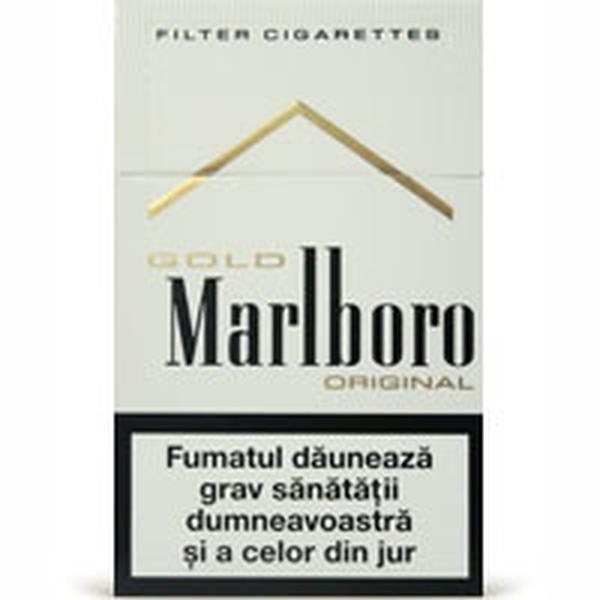marlboro_gold: (115, 1, 482, 594)
